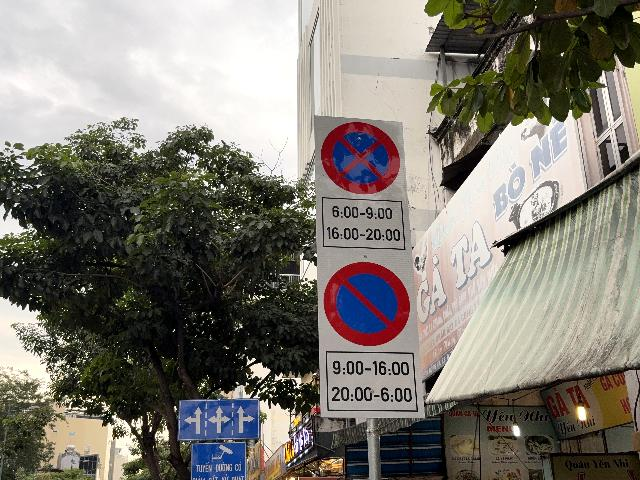cam-do-xe: (324, 261, 412, 346)
cam-dung-va-do-xe: (322, 121, 401, 195)
